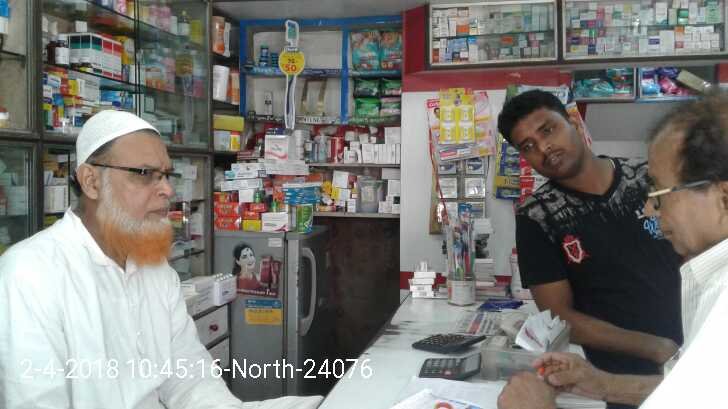oralcare: (444, 208, 477, 278)
vicks: (258, 44, 280, 68)
